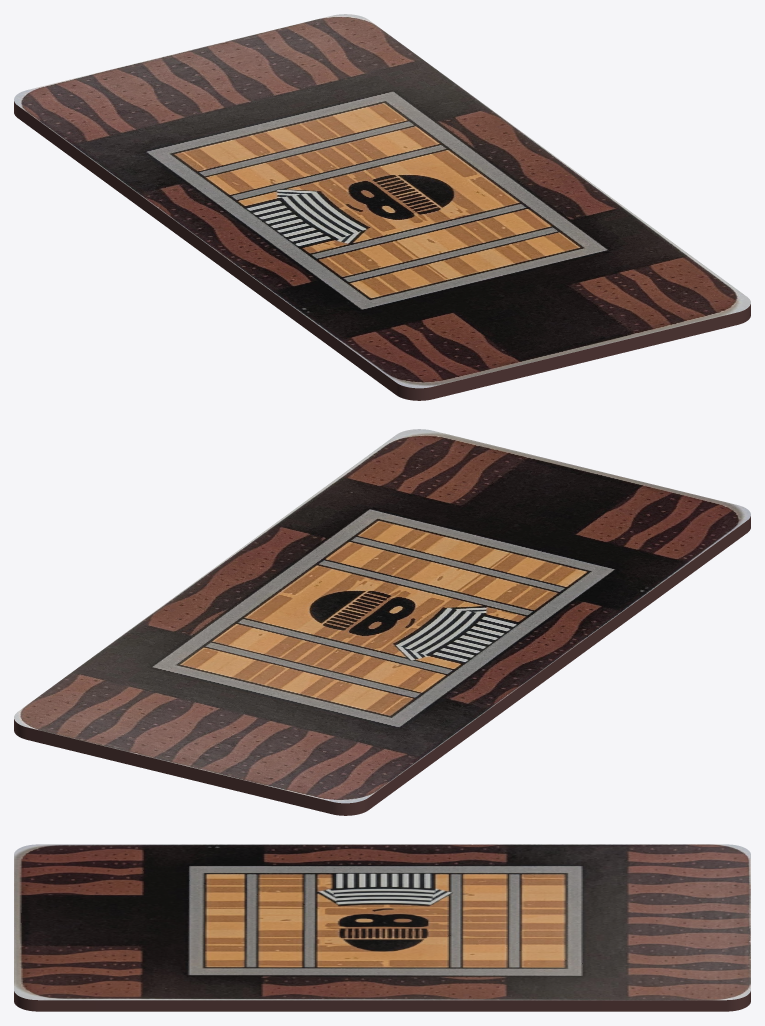
File: bandy.glb
The picture shows the model from 3 angles, top to bottom: view 1: azimuth 30°, elevation 25°; view 2: azimuth 150°, elevation 25°; view 3: azimuth 270°, elevation 25°; orthographic projection. The views are drawn at different scales.
Visible parts, largest first — view 1: bandy; view 2: bandy; view 3: bandy.
Boxes of the visible parts, bbox=[...] form: bandy: bbox=[14, 14, 750, 400]; bandy: bbox=[14, 429, 750, 815]; bandy: bbox=[14, 844, 750, 1011].
Bounding box in the file's own units: 0.044 × 0.0015 × 0.088.
Materials: 3 (2 with a texture image).
